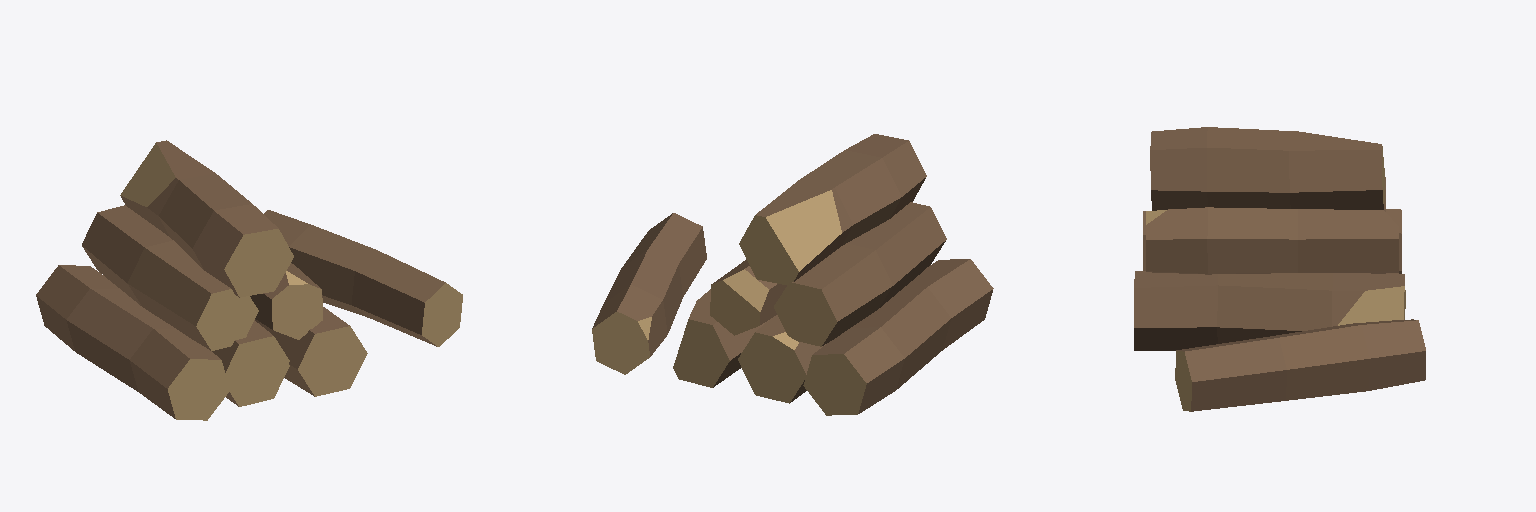
The model's file is Hilly_Prop_Camp_Wood_Pile.obj.
The picture shows the model from 3 angles: view 1: azimuth 30°, elevation 25°; view 2: azimuth 150°, elevation 25°; view 3: azimuth 270°, elevation 25°; orthographic projection.
Visible parts, largest first — view 1: object2, object6, object5, object3, object4, object1, object7; view 2: object2, object6, object5, object3, object1, object4, object7; view 3: object6, object4, object3, object7.
Part boxes in pixels (x1,y1,x2,y2): object2: (36,265,229,420); object6: (120,140,293,297); object5: (82,205,258,350); object3: (264,210,462,346); object4: (255,307,367,396); object1: (212,320,289,406); object7: (250,263,322,339); object2: (803,259,993,415); object6: (739,134,926,284); object5: (774,202,946,346); object3: (592,213,706,374); object1: (738,315,825,403); object4: (673,289,768,387); object7: (710,259,786,335); object6: (1150,127,1384,210); object4: (1134,271,1405,350); object3: (1175,319,1425,411); object7: (1146,207,1398,274).
Bounding box in the file's own units: 0.8912 × 0.4737 × 0.6918.